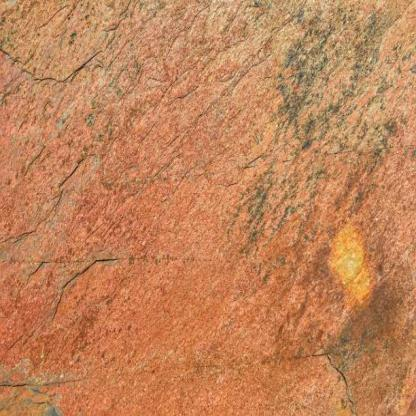Sedimentary_Sandstone: (1, 10, 411, 415)
